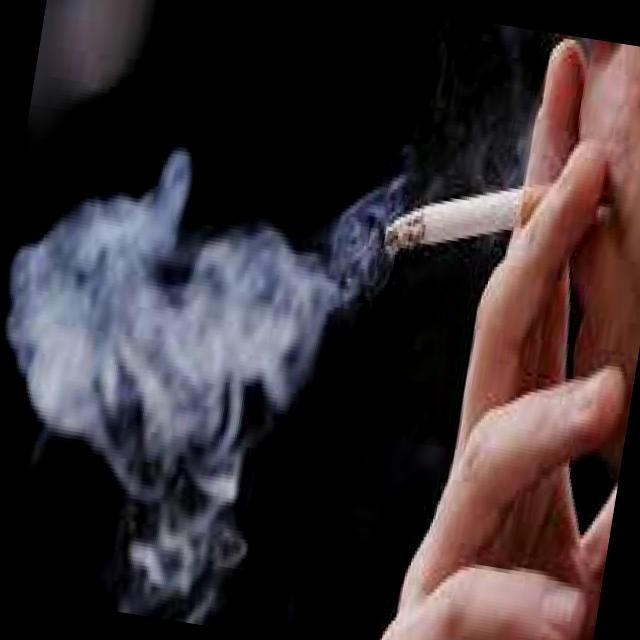cigarette: (376, 146, 562, 290)
